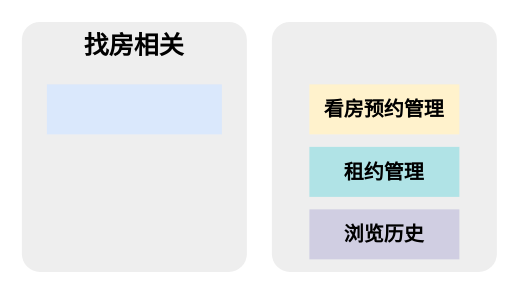
Some shapes in this 518 by 293 pixel diagram are drawn without their labels. The box of each missing label's shape, as (x1, y1, x2, y2) in pixels:
个人中心: (271, 21, 496, 271)
房源检索: (46, 84, 221, 134)
